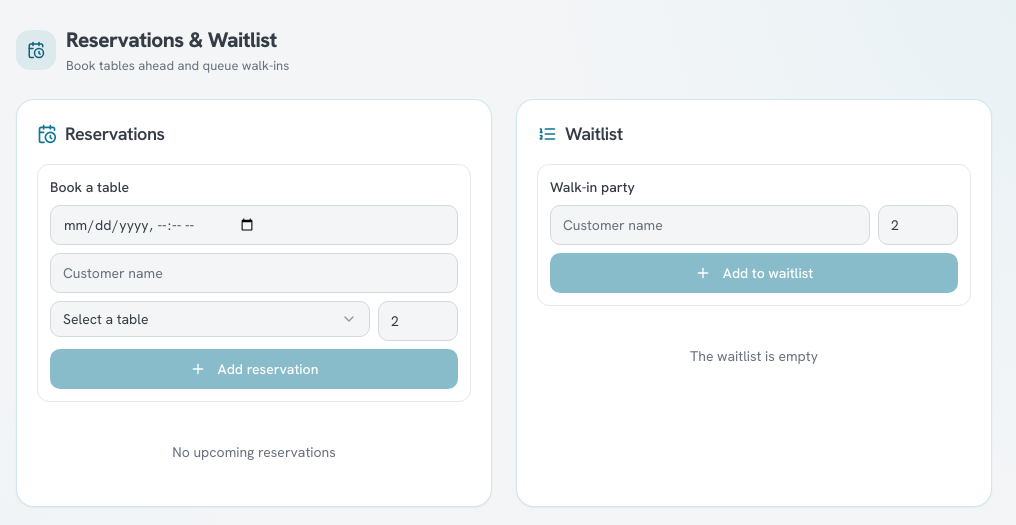
it: Reservations & waitlist › books a table for a given time (AC1)
The width and height of the screenshot is (1016, 525).
Type "2026-12-31T19:30" into the field named "date & time". click: (254, 225)
box: 50,205 -> 458,245
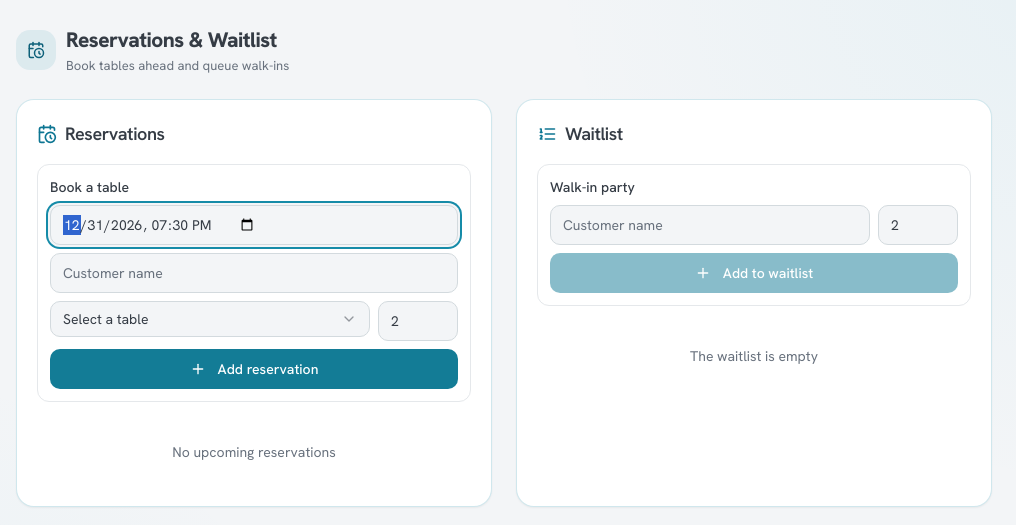
Type "Al-Otaibi" into the field labelled "Customer name" below "Book a table". click: (254, 273)
box: 50,253 -> 458,293
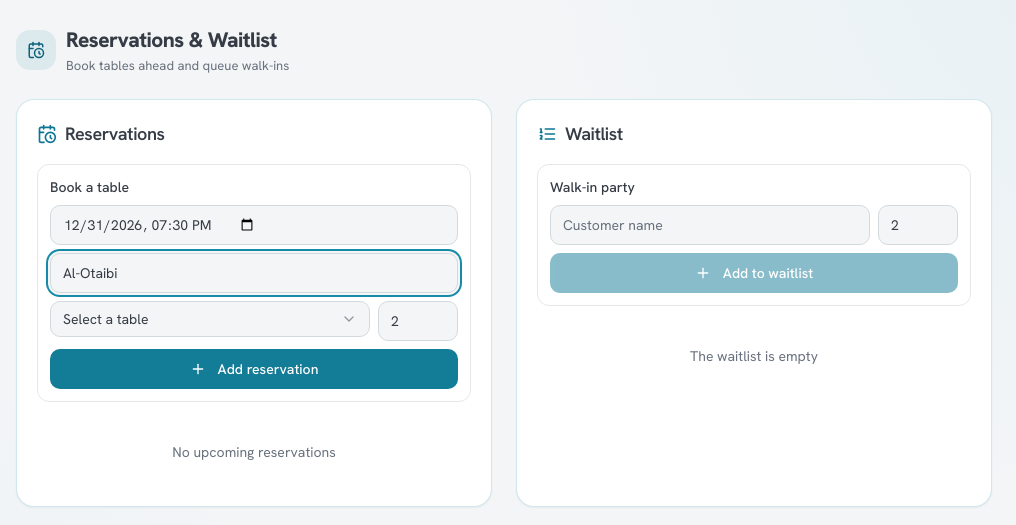
Click the button "Add reservation". click: (254, 369)
box: 50,349 -> 458,389
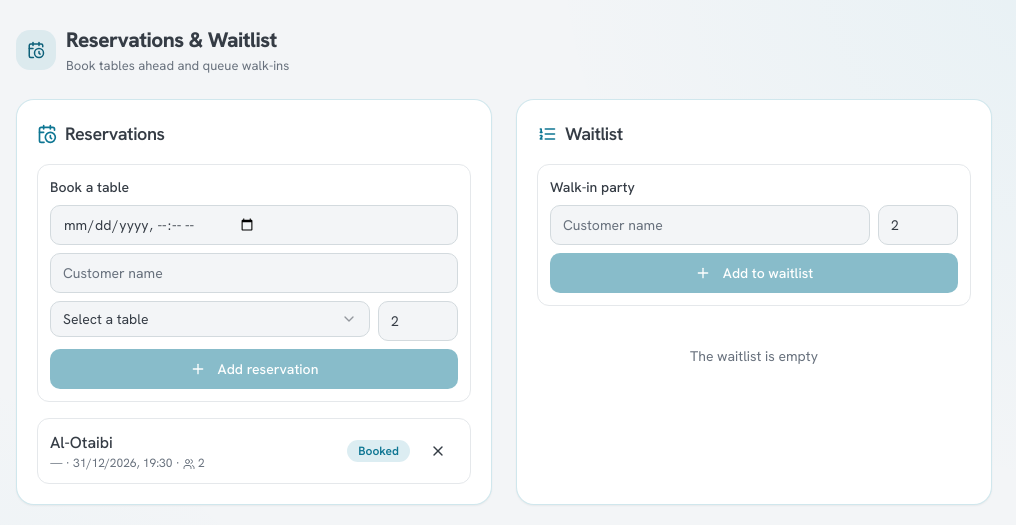
Now the text "Al-Otaibi" is shown, box 50,432 -> 113,453
